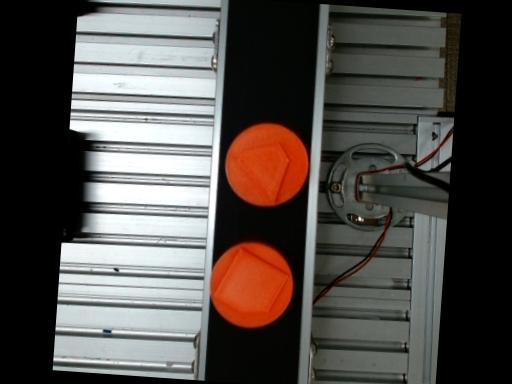Not_Square: (210, 246, 288, 315), (232, 143, 288, 205)
Orange_Waper: (208, 242, 291, 329), (223, 123, 307, 207)
